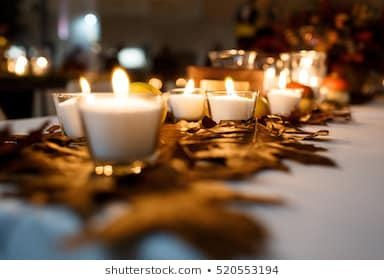fire: (263, 50, 322, 91), (109, 65, 130, 100), (77, 73, 91, 96), (223, 73, 236, 95), (182, 77, 197, 96)
